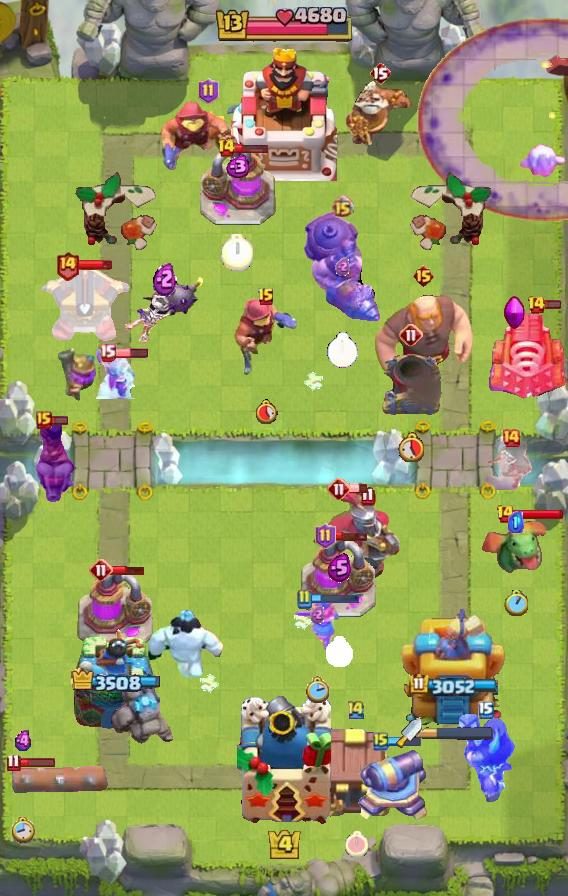balloon: (370, 291, 476, 389)
bar: (401, 601, 505, 731)
bomb: (316, 725, 396, 819)
bomb-tower: (54, 348, 98, 402)
bomber-evolution: (95, 349, 137, 399)
clock: (213, 7, 355, 45)
electro-spirit: (153, 260, 177, 296), (328, 553, 353, 583), (223, 154, 251, 178), (14, 730, 35, 752), (508, 511, 524, 533), (335, 257, 350, 275), (311, 605, 325, 623)
electro-wizard: (482, 518, 550, 576)
elite-barbarian: (32, 416, 76, 502)
elixir: (221, 233, 253, 271), (327, 332, 358, 368), (327, 637, 354, 668), (398, 432, 424, 462), (305, 676, 329, 703), (11, 816, 35, 843), (504, 590, 528, 616), (254, 399, 278, 424), (345, 831, 368, 857)
elixir-collector: (345, 78, 415, 152)
emote: (309, 592, 361, 605), (512, 508, 564, 520), (234, 142, 270, 154), (77, 259, 113, 271), (113, 347, 149, 359), (333, 530, 369, 542), (387, 735, 422, 747), (19, 756, 56, 767), (110, 565, 146, 576), (51, 414, 70, 426), (542, 299, 562, 310), (349, 483, 368, 494)
fireball: (159, 100, 257, 172), (232, 298, 300, 378)
goblin-ball: (123, 275, 207, 345)
golem: (488, 309, 568, 399)
hog-rider: (293, 599, 341, 653)
inferno-dragon: (457, 708, 515, 802)
king-tower: (231, 45, 337, 181), (237, 696, 331, 826)
king-tower-bar: (422, 726, 494, 740)
lava-pup: (38, 261, 130, 343)
minion: (0, 762, 108, 798)
mirror: (518, 143, 568, 181)
musketeer: (380, 351, 442, 419)
pekka: (198, 145, 276, 227), (300, 537, 378, 619), (77, 569, 155, 651)
queen-tower: (72, 627, 156, 731)
rage: (143, 610, 229, 678)
rocket: (416, 18, 567, 222)
royal-recruit: (356, 740, 428, 824)
selected: (68, 668, 159, 694), (410, 672, 499, 696)
skeleton-king-skill: (503, 296, 525, 330)
tesla: (484, 438, 538, 490)
text: (55, 251, 80, 281), (399, 323, 423, 347), (327, 477, 351, 501), (89, 558, 113, 582), (413, 264, 436, 288), (197, 78, 218, 104), (316, 523, 337, 549), (331, 195, 354, 218), (369, 61, 391, 85), (346, 700, 366, 721), (526, 295, 546, 315), (501, 428, 521, 448), (496, 504, 516, 524), (216, 138, 235, 158), (257, 287, 275, 307), (99, 343, 117, 361), (296, 589, 312, 609), (373, 731, 389, 751), (36, 411, 52, 429), (478, 701, 494, 719), (7, 752, 21, 771)
valkyrie-evolution: (111, 688, 177, 750)
wall-breaker-evolution: (310, 486, 402, 580)
wizard: (301, 210, 383, 324)
